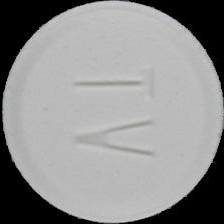49999-758: (0, 0, 224, 224)
